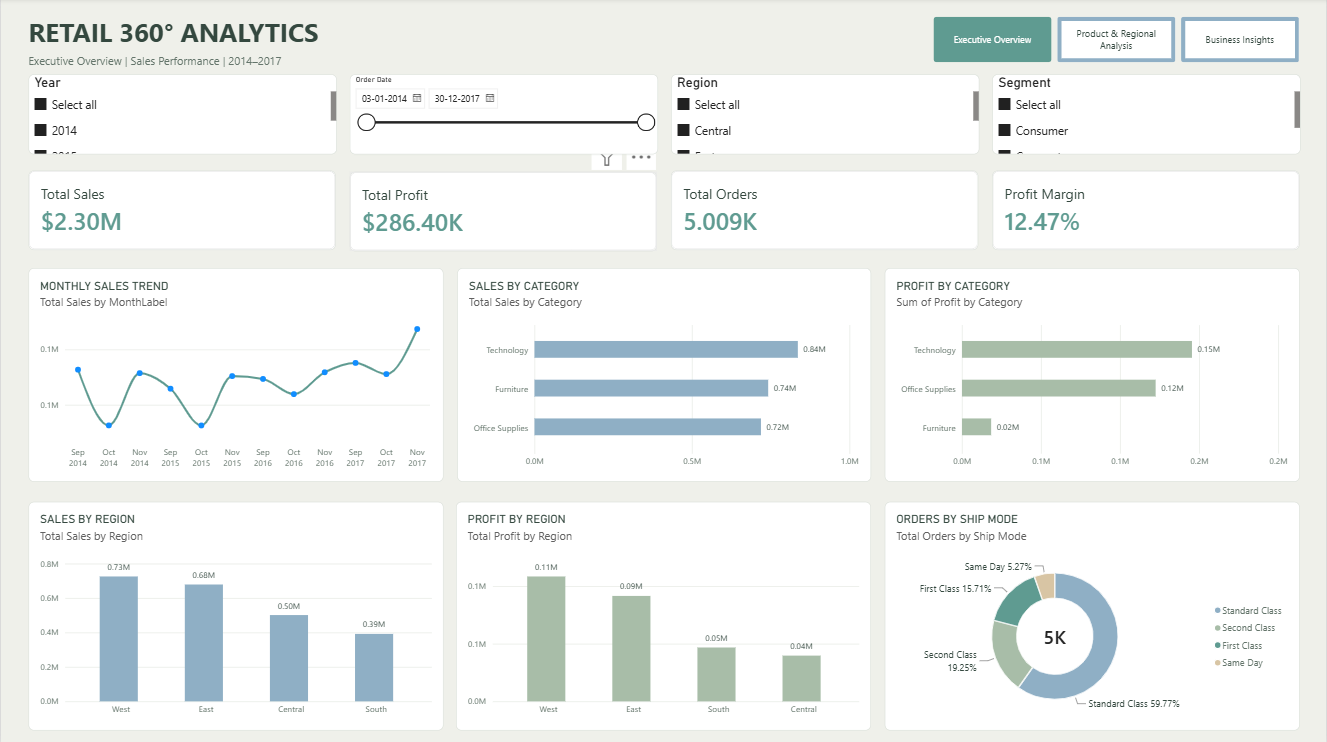

The dashboard page shown, as its layout file describes it:
{"tool":"powerbi","page":{"name":"\tExecutive Overview","canvas":[1920,1080],"ordinal":0},"visuals":[{"type":"textbox","box":[40,24,1000,55],"z":0},{"type":"textbox","box":[40,80,1000,30],"z":1000},{"type":"cardVisual","fields":{"Data":["superstore_cleaned.Total Sales"]},"box":[40,250,445,115],"z":2000},{"type":"cardVisual","fields":{"Data":["superstore_cleaned.Total Profit"]},"box":[505,250.9,445,115],"z":3000},{"type":"cardVisual","fields":{"Data":["superstore_cleaned.Profit Margin"]},"box":[1435,250,445,115],"z":4000},{"type":"cardVisual","fields":{"Data":["superstore_cleaned.Total Orders"]},"box":[970,250,445,115],"z":5000},{"type":"lineChart","title":"MONTHLY SALES TREND","fields":{"Category":["superstore_cleaned.MonthLabel"],"Y":["superstore_cleaned.Total Sales"]},"box":[39.8,390.9,600.8,309.5],"z":6000},{"type":"slicer","fields":{"Values":["superstore_cleaned.Year"]},"box":[40,110,446,116],"z":7000},{"type":"clusteredBarChart","title":"SALES BY CATEGORY","fields":{"Category":["superstore_cleaned.Category"],"Y":["superstore_cleaned.Total Sales"]},"box":[660.5,390.9,599,309.5],"z":8000},{"type":"clusteredBarChart","title":"PROFIT BY CATEGORY","fields":{"Category":["superstore_cleaned.Category"],"Y":["Sum(superstore_cleaned.Profit)"]},"box":[1279.4,390.9,600.8,309.5],"z":9000},{"type":"clusteredColumnChart","title":"SALES BY REGION","fields":{"Category":["superstore_cleaned.Region"],"Y":["superstore_cleaned.Total Sales"]},"box":[39.8,729.3,600.8,331.2],"z":10000},{"type":"clusteredColumnChart","title":"PROFIT BY REGION","fields":{"Category":["superstore_cleaned.Region"],"Y":["superstore_cleaned.Total Profit"]},"box":[658.7,729.3,600.8,331.2],"z":11000},{"type":"donutChart","title":"ORDERS BY SHIP MODE","fields":{"Category":["superstore_cleaned.Ship Mode"],"Y":["superstore_cleaned.Total Orders"]},"box":[1279.4,729.3,600.8,331.2],"z":12000},{"type":"slicer","fields":{"Values":["superstore_cleaned.Order Date"]},"box":[505,110,446,116],"z":13000},{"type":"slicer","fields":{"Values":["superstore_cleaned.Region"]},"box":[970,110.4,446,116],"z":14000},{"type":"slicer","fields":{"Values":["superstore_cleaned.Segment"]},"box":[1435.1,110.4,446,116],"z":15000},{"type":"pageNavigator","box":[1350,27.1,530.2,67],"z":16000}]}

Visuals, with their boxes in screenshot pixels (x1, y1, x2, y2), scaled from the page's 1920x1080 canvas onto the 1327x742 screenshot:
textbox: [28, 16, 719, 54]
textbox: [28, 55, 719, 76]
cardVisual - superstore_cleaned.Total Sales: [28, 172, 335, 251]
cardVisual - superstore_cleaned.Total Profit: [349, 172, 657, 251]
cardVisual - superstore_cleaned.Profit Margin: [992, 172, 1299, 251]
cardVisual - superstore_cleaned.Total Orders: [670, 172, 978, 251]
"MONTHLY SALES TREND" lineChart: [28, 269, 443, 481]
slicer - superstore_cleaned.Year: [28, 76, 336, 155]
"SALES BY CATEGORY" clusteredBarChart: [457, 269, 870, 481]
"PROFIT BY CATEGORY" clusteredBarChart: [884, 269, 1299, 481]
"SALES BY REGION" clusteredColumnChart: [28, 501, 443, 729]
"PROFIT BY REGION" clusteredColumnChart: [455, 501, 870, 729]
"ORDERS BY SHIP MODE" donutChart: [884, 501, 1299, 729]
slicer - superstore_cleaned.Order Date: [349, 76, 657, 155]
slicer - superstore_cleaned.Region: [670, 76, 979, 156]
slicer - superstore_cleaned.Segment: [992, 76, 1300, 156]
pageNavigator: [933, 19, 1299, 65]
